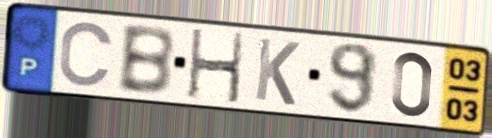0: (389, 50, 435, 120)
9: (326, 40, 381, 118)
B: (115, 24, 177, 98)
C: (57, 19, 117, 90)
H: (186, 27, 246, 107)
K: (252, 35, 303, 109)
